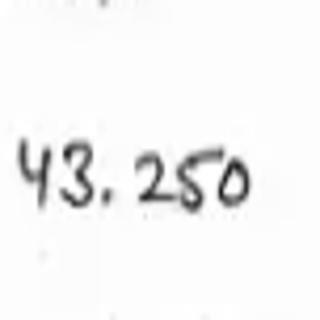.: (94, 183, 115, 209)
0: (218, 156, 250, 209)
2: (135, 147, 169, 204)
3: (59, 138, 93, 208)
4: (17, 136, 53, 209)
5: (176, 144, 220, 211)
